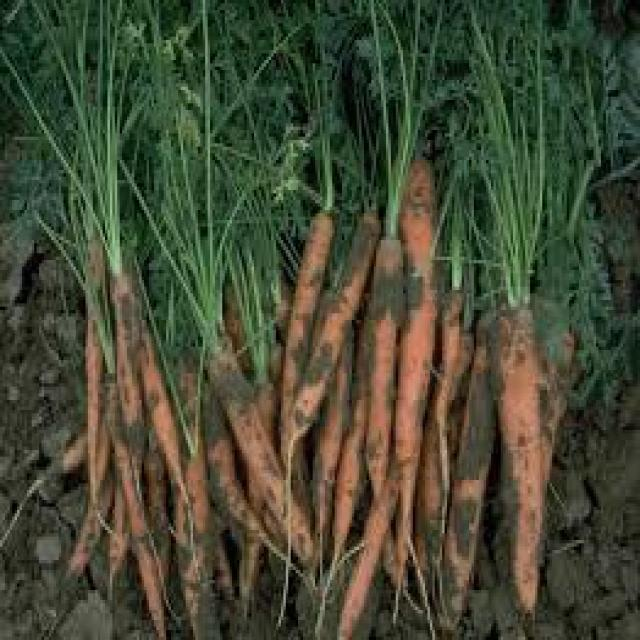Stale_Carrot: (435, 384, 524, 486), (290, 244, 386, 333), (93, 384, 170, 484), (287, 348, 382, 423), (362, 244, 414, 329)
